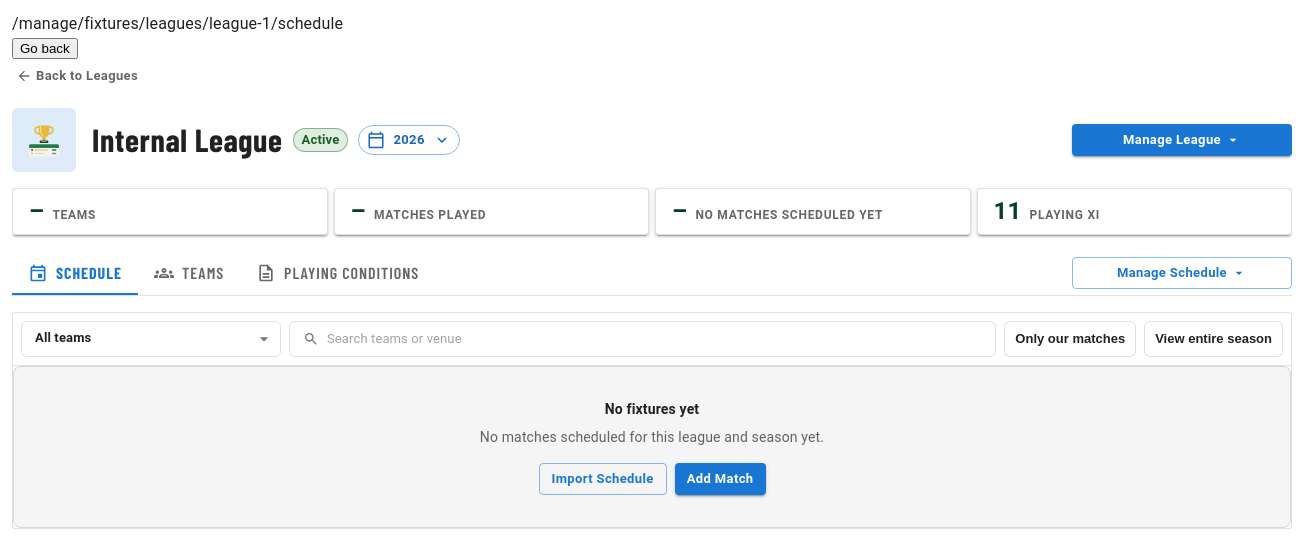
Scenario: LeagueScheduleView › shows Import Schedule and Add Match in the empty state as well as the Manage Schedule menu
This screenshot has width=1304, height=546.
Expected: the text "No fixtures yet" is shown, [605,399,699,419]
Expected: the button "Manage Schedule" is shown, [1072,257,1292,289]
Click the link "Add Match" at (720, 479), box [675,463,766,495]
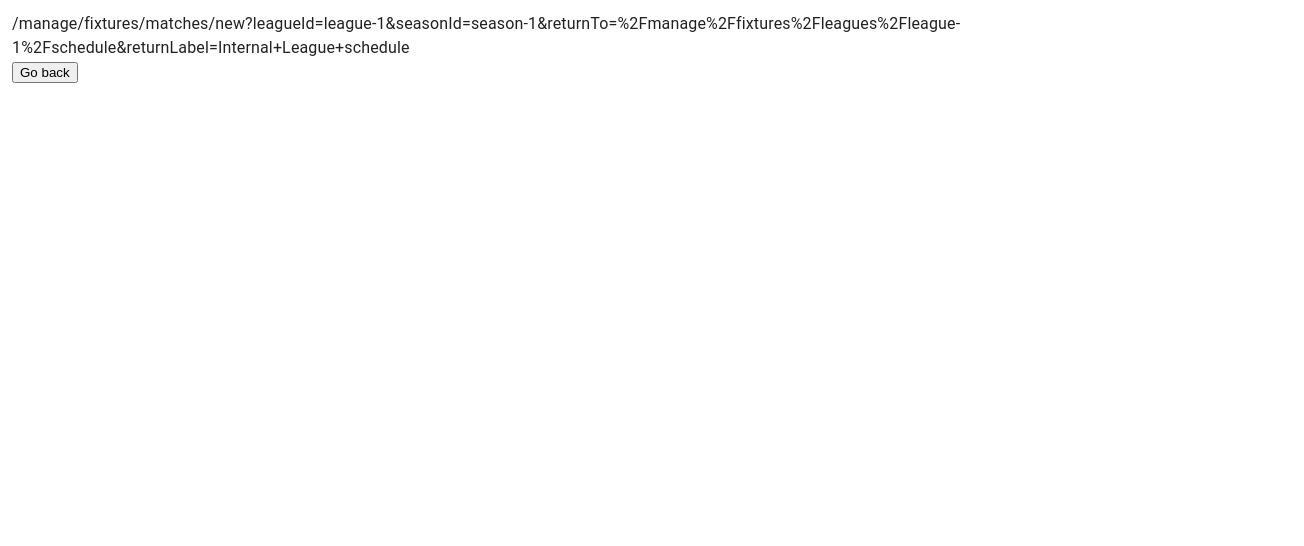
Expected: the text with test id "location" shows "/manage/fixtures/matches/new?leagueId=league-1&seasonId=season-1", [12,14,960,57]
